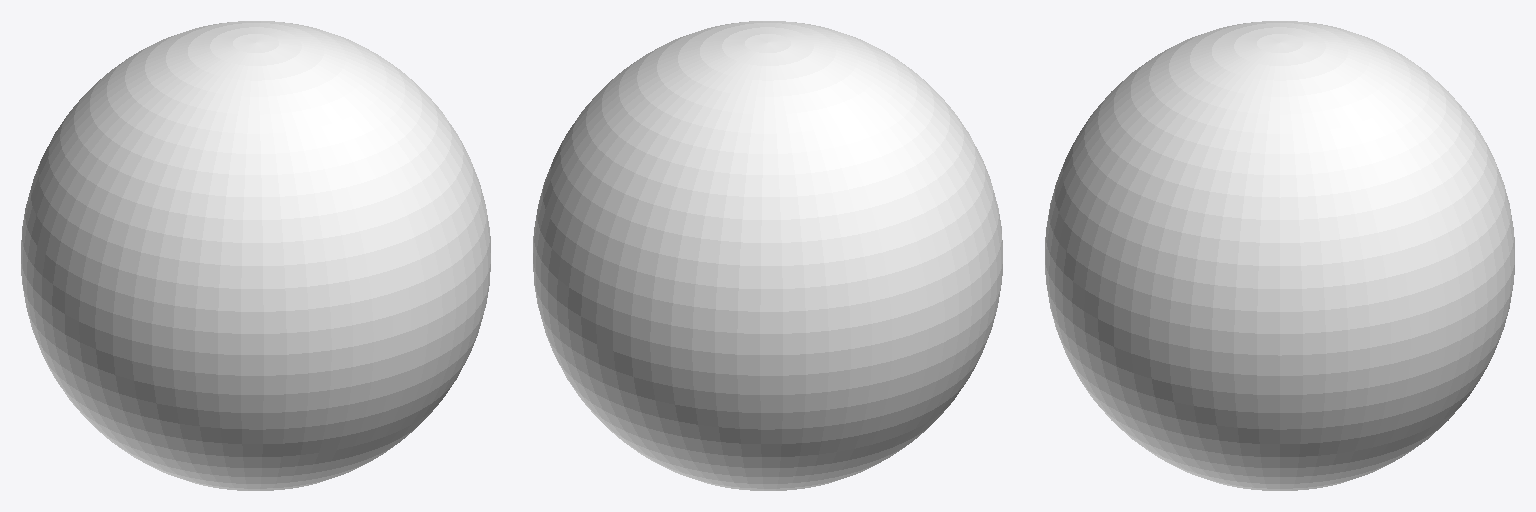
Rendered from earth.obj.
3 views of the same model, side by side, from view 1: azimuth 30°, elevation 25°; view 2: azimuth 150°, elevation 25°; view 3: azimuth 270°, elevation 25° (orthographic).
Parts seen in each view (by area): view 1: Sphere001; view 2: Sphere001; view 3: Sphere001.
Part boxes in pixels (x1,y1,x2,y2): Sphere001: (21, 21, 490, 490); Sphere001: (533, 21, 1002, 490); Sphere001: (1045, 21, 1514, 490).
Bounding box in the file's own units: 682 × 682 × 682.